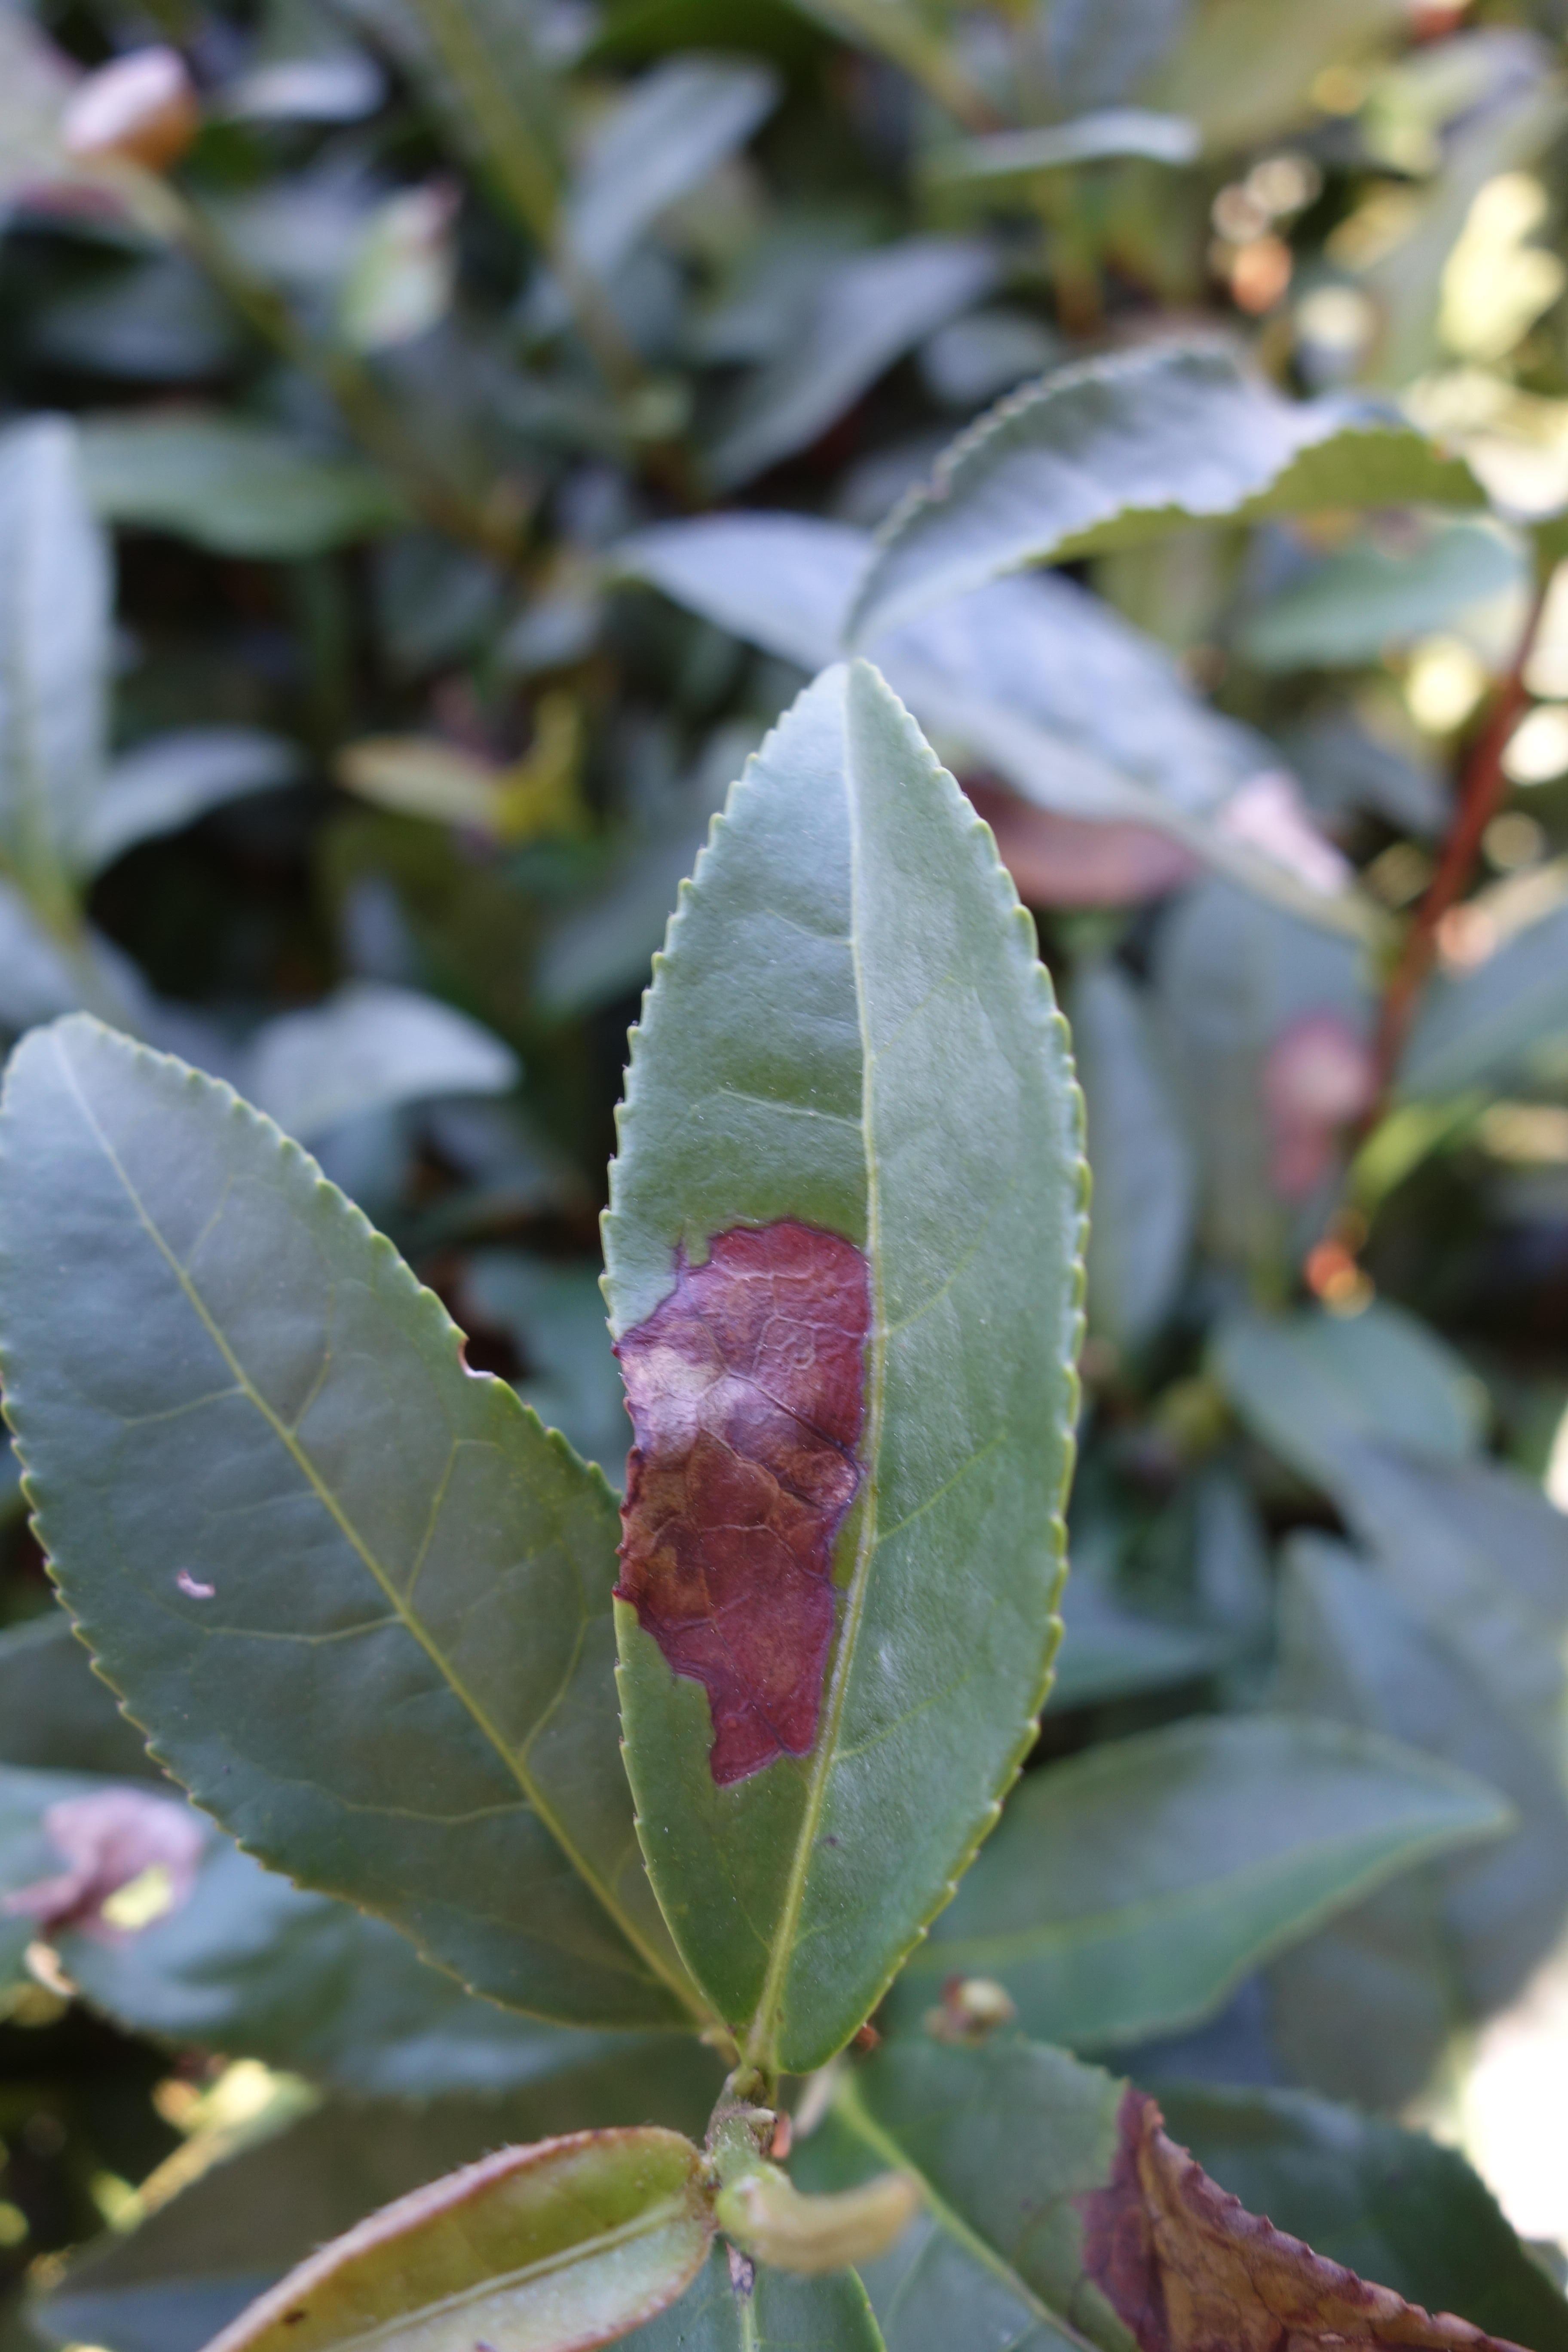tanju_high: (591, 660, 1102, 2081), (817, 2039, 1542, 2345)
tanju_low: (206, 2126, 726, 2341)
